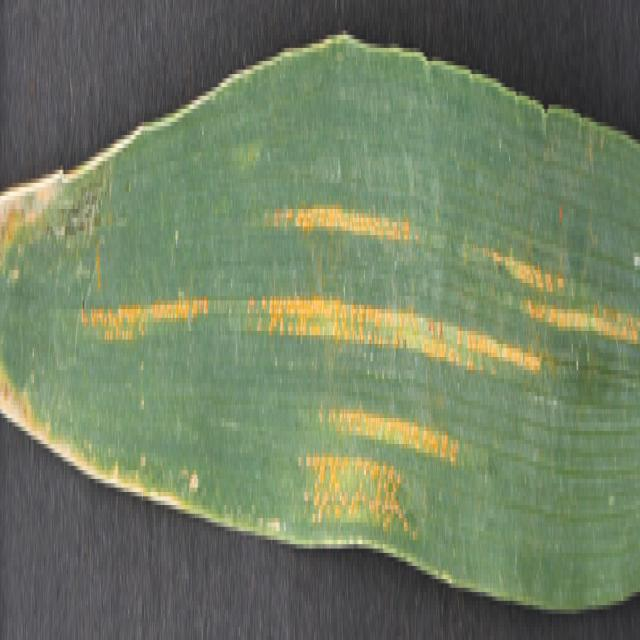leaf rust: (246, 165, 638, 540), (74, 231, 220, 374)
